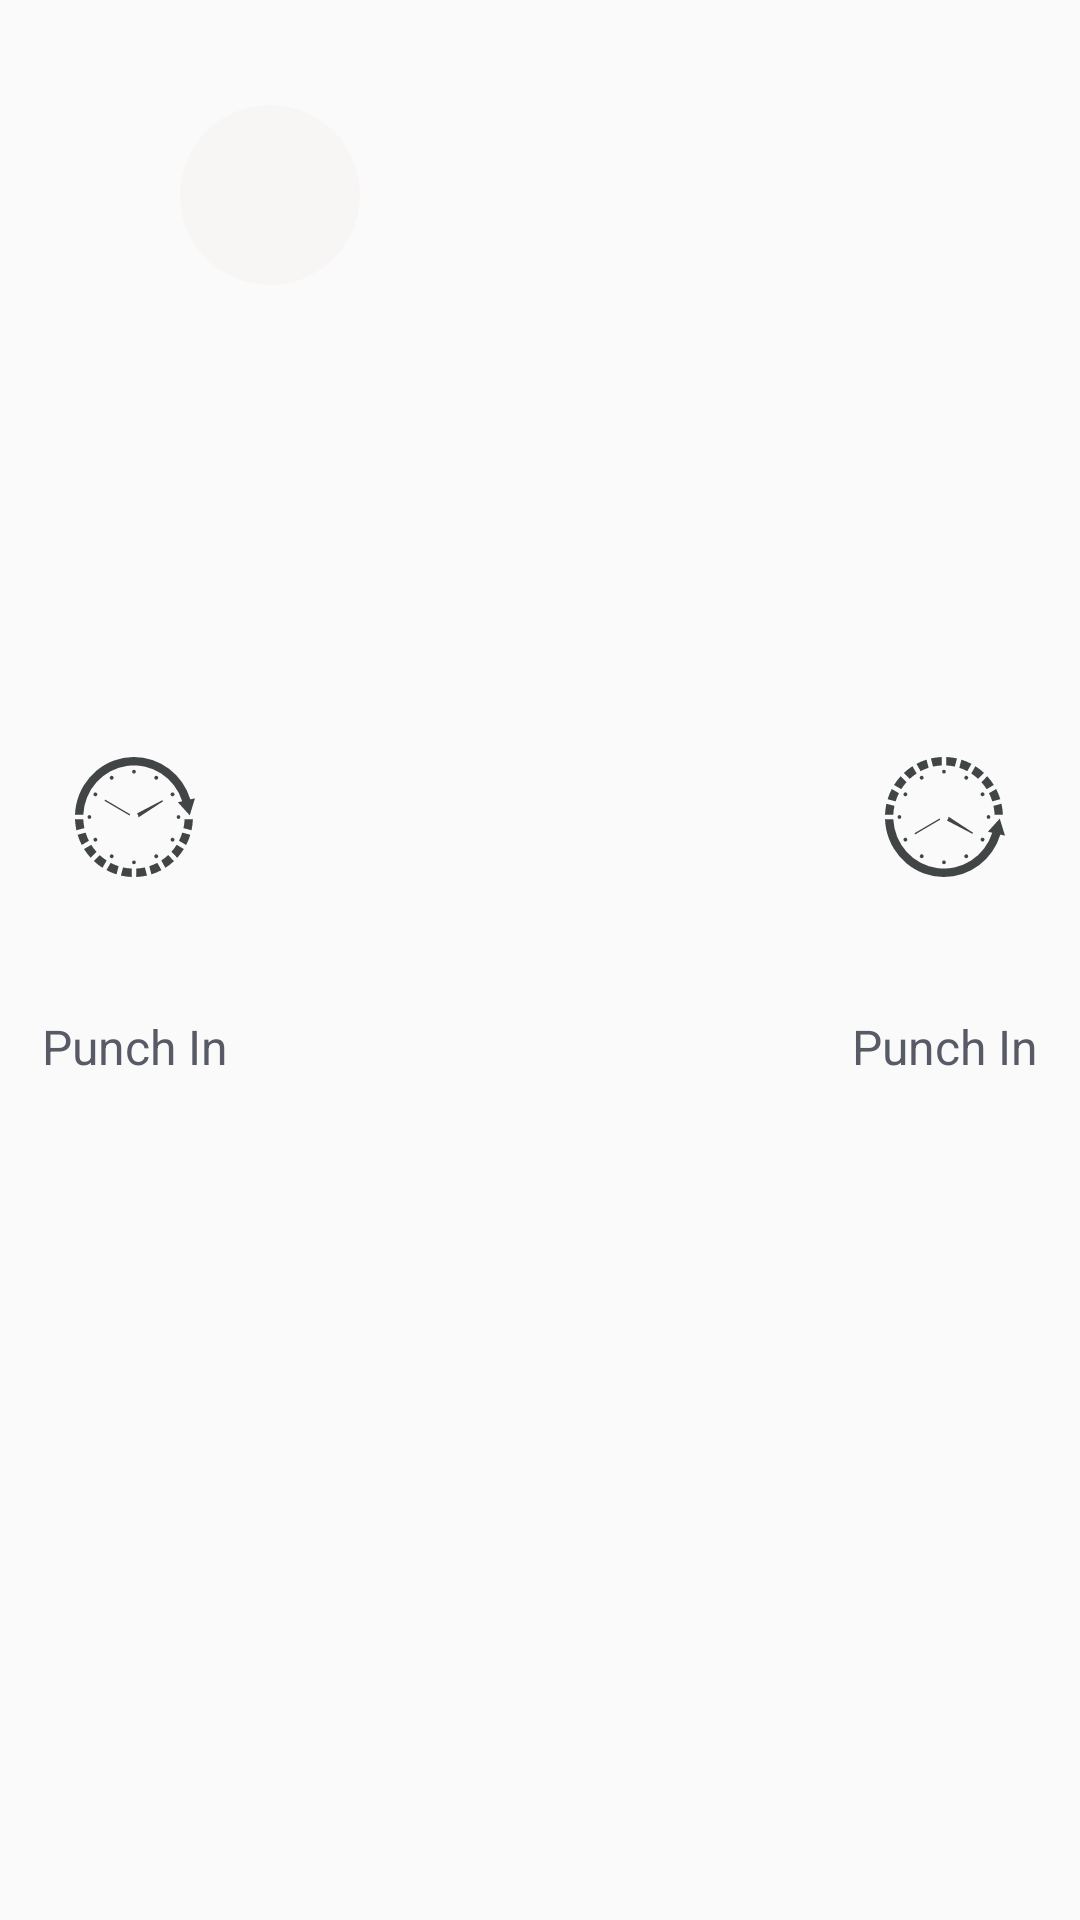

Screen size 1080*1920. Icon name, then its box in pixels as BBox(x1, y1, x2, y2):
vectors punch out: BBox(885, 757, 1005, 877)
